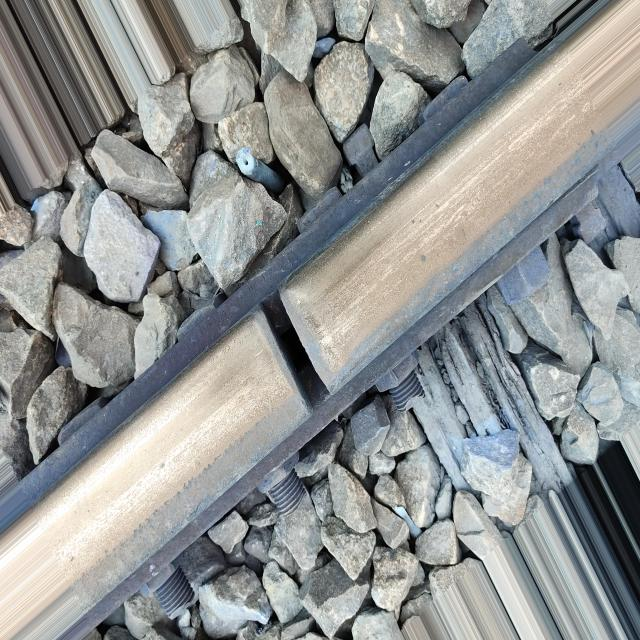crack: (237, 270, 343, 444)
